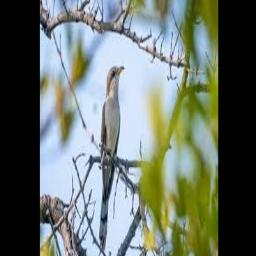Cuckoo: (99, 65, 125, 252)
